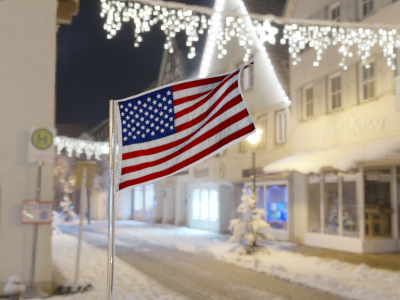America flag: (115, 60, 256, 191)
